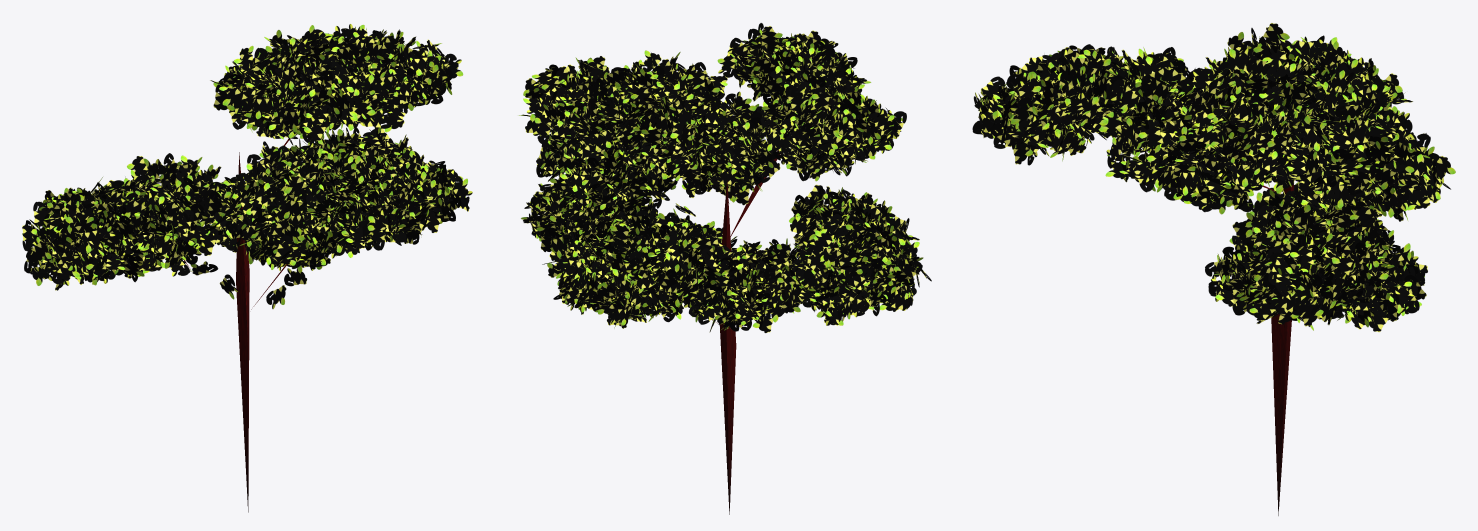
Rendered from acacia_flat_v01_LOD1.glb.
3 renders of one model, left to right at view 1: azimuth 30°, elevation 25°; view 2: azimuth 150°, elevation 25°; view 3: azimuth 270°, elevation 25°, orthographic. The views are drawn at different scales.
Parts seen in each view (by area): view 1: acacia_flat_v01_LOD1; view 2: acacia_flat_v01_LOD1; view 3: acacia_flat_v01_LOD1.
Part boxes in pixels (bbox=[...]): acacia_flat_v01_LOD1: bbox=[22, 24, 472, 512]; acacia_flat_v01_LOD1: bbox=[518, 23, 931, 514]; acacia_flat_v01_LOD1: bbox=[972, 23, 1455, 515].
Size of the model in its own units: 9.33 by 9.66 by 8.33.
2 materials, 2 textured.
